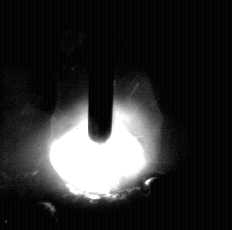arame: (89, 0, 114, 143)
poca: (49, 0, 160, 230)
